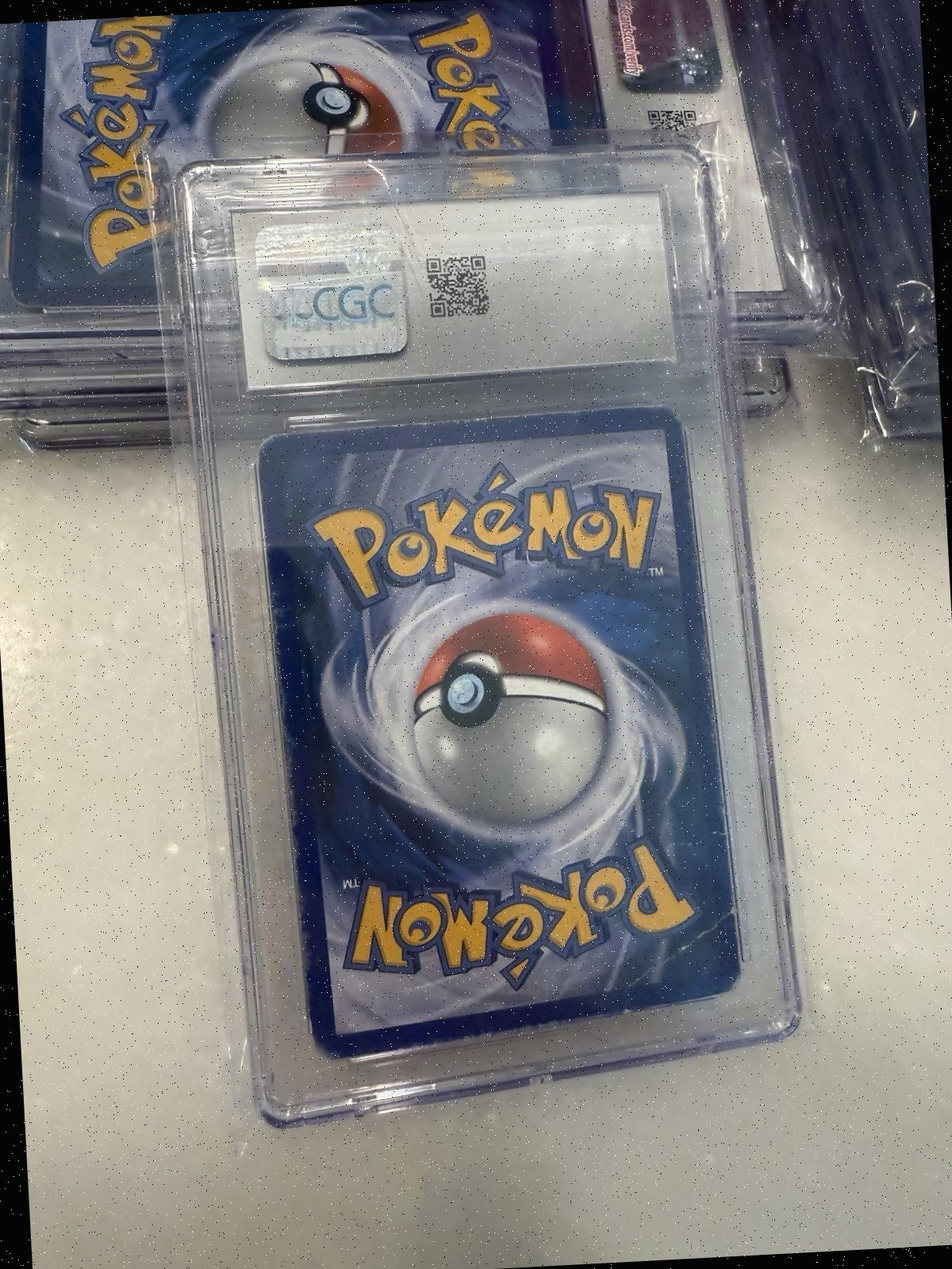card-2UtV: (258, 405, 741, 1061)
